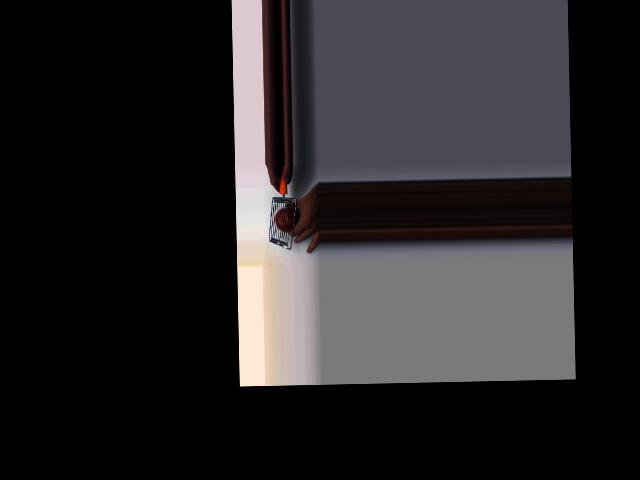tomato: (275, 207, 298, 231)
